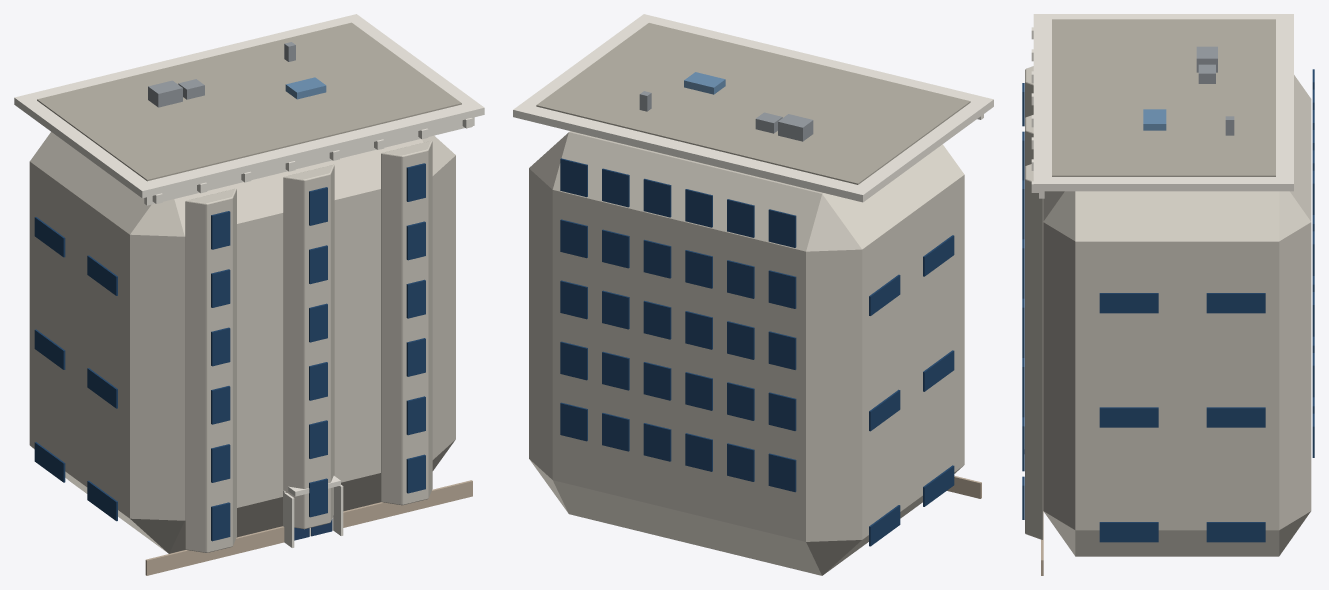
File: apt_w20_f6_bays.glb
3 views of the same model, side by side, from view 1: azimuth 30°, elevation 25°; view 2: azimuth 150°, elevation 25°; view 3: azimuth 270°, elevation 25° (orthographic). The views are drawn at different scales.
Parts seen in each view (by area): view 1: walls, roofslab, bay, bay.002, bay.001, corn, bsmt, frieze, hvac, bw.003, bw.004, bw.013 (+22 smaller); view 2: walls, roofslab, corn, win, win.027, win.003, win.006, win.009, win.021, win.024, win.015, win.018 (+29 smaller); view 3: walls, roofslab, corn, bay.002, sb.005, sb.007, sb.001, sb.003, sb.009, sb.011, skylt, hvac (+2 smaller).
Part boxes in pixels (box(x1,y1,x2,y2)): walls: box(29, 132, 455, 553); roofslab: box(37, 22, 461, 181); bay: box(185, 188, 236, 552); bay.002: box(381, 140, 432, 505); bay.001: box(283, 164, 334, 529); corn: box(14, 14, 484, 198); bsmt: box(145, 480, 472, 575); frieze: box(144, 117, 474, 205); hvac: box(148, 80, 182, 107); bw.003: box(211, 327, 230, 366); bw.004: box(211, 269, 230, 307); bw.013: box(406, 396, 425, 435); walls: box(529, 131, 964, 575); roofslab: box(536, 23, 970, 184); corn: box(513, 14, 993, 202); win: box(768, 453, 796, 492); win.027: box(643, 178, 671, 217); win.003: box(643, 423, 671, 461); win.006: box(768, 392, 796, 430); win.009: box(643, 362, 671, 400); win.021: box(643, 239, 671, 278); win.024: box(768, 209, 796, 247); win.015: box(643, 300, 671, 339); win.018: box(768, 270, 796, 308); walls: box(1043, 75, 1311, 556); roofslab: box(1052, 19, 1275, 176); corn: box(1033, 14, 1293, 191); bay.002: box(1025, 164, 1043, 539); sb.005: box(1099, 407, 1158, 427); sb.007: box(1206, 407, 1265, 427); sb.001: box(1099, 522, 1158, 542); sb.003: box(1206, 522, 1265, 542); sb.009: box(1099, 293, 1158, 313); sb.011: box(1206, 293, 1265, 313); skylt: box(1143, 109, 1166, 130); hvac: box(1196, 46, 1217, 72).
Bounding box in the file's own units: 21 × 23.8 × 15.26.
